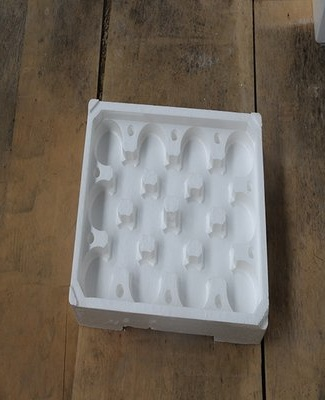5/可回收垃圾/泡沫: (68, 99, 270, 346)
